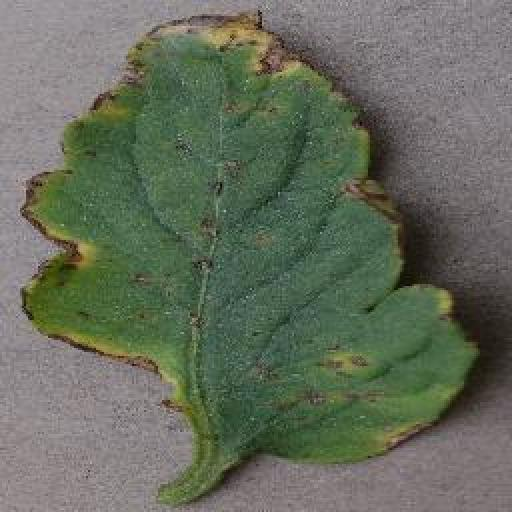Bacterial Spot: (11, 4, 481, 471)
